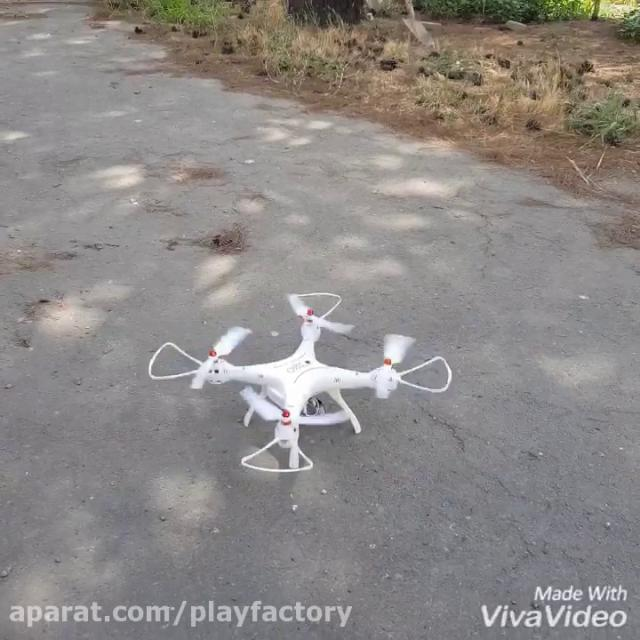drone: (144, 284, 457, 476)
